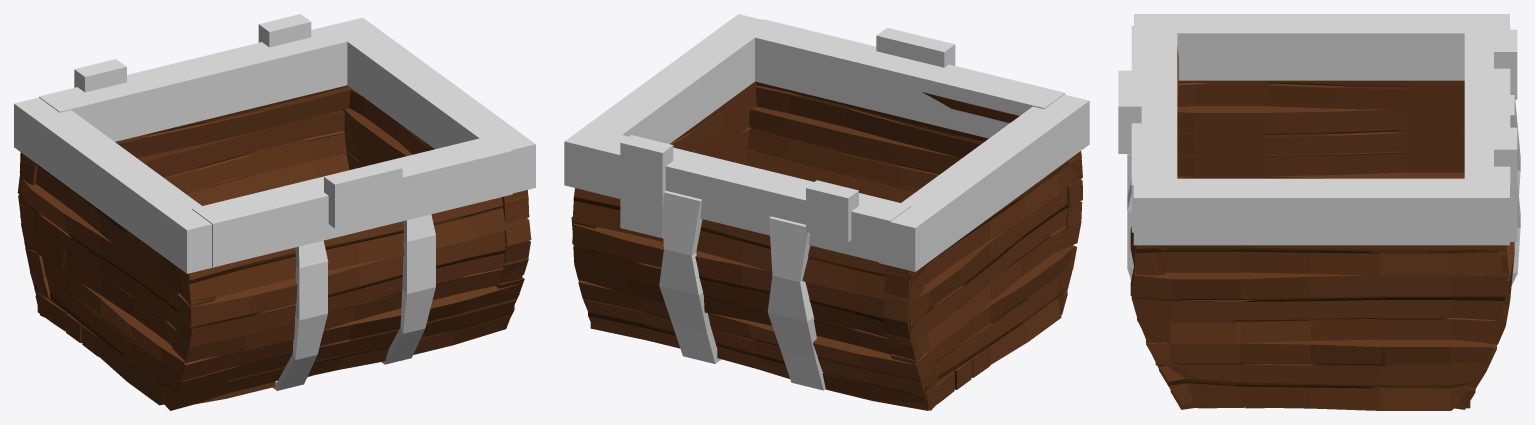
File: ChestBottom.fbx
3 renders of one model, left to right at view 1: azimuth 30°, elevation 25°; view 2: azimuth 150°, elevation 25°; view 3: azimuth 270°, elevation 25°, orthographic. The views are drawn at different scales.
Visible parts, largest first — view 1: Cube.006, Cube.002, Cube.010, Cube.001, Cube.013, Cube.003, Cube.012, Cube, Cube.004, Cube.007; view 2: Cube.006, Cube.001, Cube.010, Cube.002, Cube.013, Cube.003, Cube.007, Cube.004, Cube, Cube.012, Cube.011; view 3: Cube.006, Cube.003, Cube.010, Cube.012, Cube.001, Cube.013, Cube.002, Cube, Cube.004, Cube.009, Cube.011.
Part boxes in pixels (<box>): Cube.006: <box>14,17,535,273</box>; Cube.002: <box>164,197,526,410</box>; Cube.010: <box>17,152,215,405</box>; Cube.001: <box>19,85,350,321</box>; Cube.013: <box>272,214,435,390</box>; Cube.003: <box>342,87,531,316</box>; Cube.012: <box>324,160,402,228</box>; Cube: <box>258,14,311,47</box>; Cube.004: <box>74,59,126,92</box>; Cube.007: <box>37,293,81,343</box>; Cube.006: <box>564,14,1089,271</box>; Cube.001: <box>572,188,944,410</box>; Cube.010: <box>883,161,1081,404</box>; Cube.002: <box>744,82,1082,314</box>; Cube.013: <box>659,191,825,390</box>; Cube.003: <box>571,81,756,281</box>; Cube.007: <box>590,321,971,410</box>; Cube.004: <box>806,180,858,242</box>; Cube: <box>620,135,673,196</box>; Cube.012: <box>876,27,955,67</box>; Cube.011: <box>620,184,663,238</box>; Cube.006: <box>1131,14,1510,245</box>; Cube.003: <box>1130,245,1508,410</box>; Cube.010: <box>1177,80,1464,178</box>; Cube.012: <box>1118,70,1141,153</box>; Cube.001: <box>1455,242,1514,409</box>; Cube.013: <box>1127,95,1520,285</box>; Cube.002: <box>1130,47,1195,409</box>; Cube: <box>1494,127,1517,197</box>; Cube.004: <box>1494,29,1517,99</box>; Cube.009: <box>1182,387,1264,408</box>; Cube.011: <box>1510,194,1517,241</box>.
Size of the model in its own units: 429 by 257 by 394.
